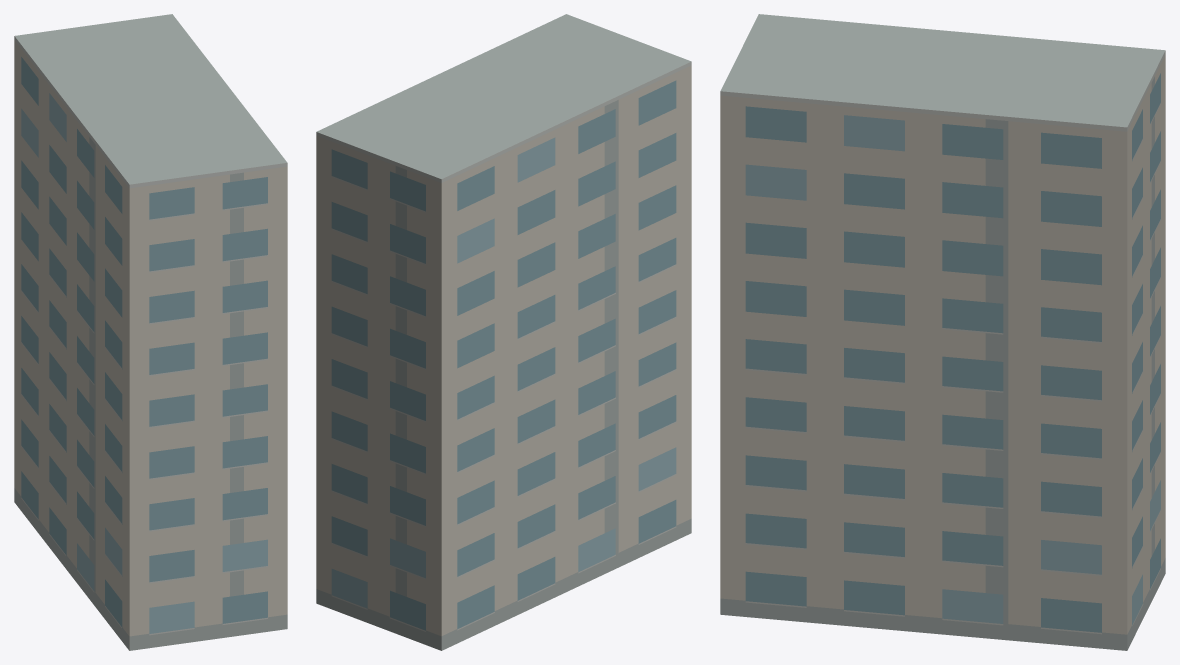
The model's file is residential-cc879b70-7d4d-43a2-9633-7cf6fc793e96.glb.
The picture shows the model from 3 angles, left to right: view 1: azimuth 30°, elevation 25°; view 2: azimuth 150°, elevation 25°; view 3: azimuth 270°, elevation 25°; orthographic projection. The views are drawn at different scales.
Parts seen in each view (by area): view 1: residential-cc879b70-7d4d-43a2-9633-7cf6fc793e96.tmp; view 2: residential-cc879b70-7d4d-43a2-9633-7cf6fc793e96.tmp; view 3: residential-cc879b70-7d4d-43a2-9633-7cf6fc793e96.tmp.
Part boxes in pixels (box(x1,y1,x2,y2)): residential-cc879b70-7d4d-43a2-9633-7cf6fc793e96.tmp: box(14, 14, 287, 650); residential-cc879b70-7d4d-43a2-9633-7cf6fc793e96.tmp: box(316, 14, 691, 650); residential-cc879b70-7d4d-43a2-9633-7cf6fc793e96.tmp: box(720, 14, 1165, 650).
Bounding box in the file's own units: 13.95 × 30 × 23.13.
